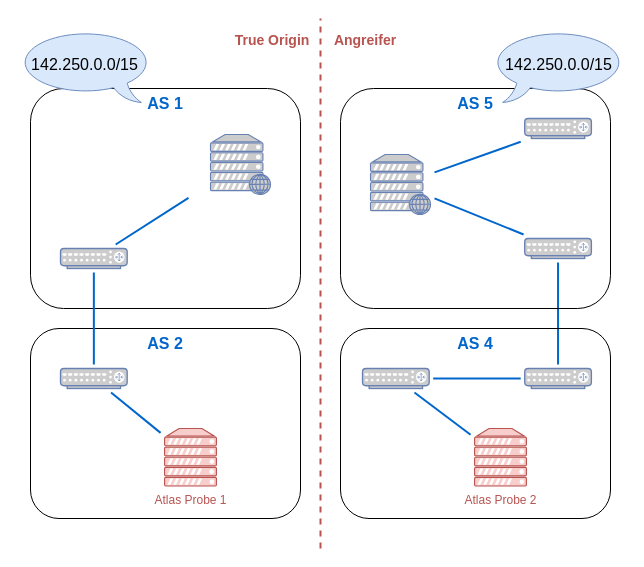
Some shapes in this 644 by 567 pixel diagram are drawn without their labels. Each missing label, with the centre of its shape:
142.250.185.110 (Angreifer): the point at 400,184
142.250.185.110 (YouTube): the point at 240,164
